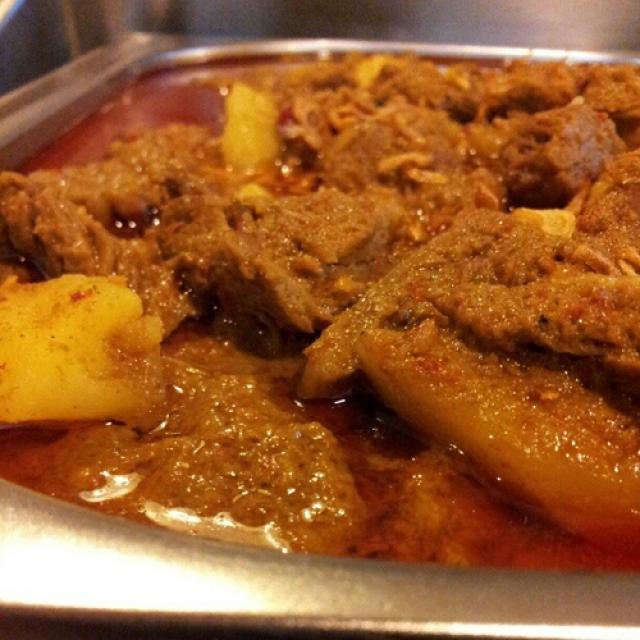熟制海鲜: (13, 26, 626, 613)
